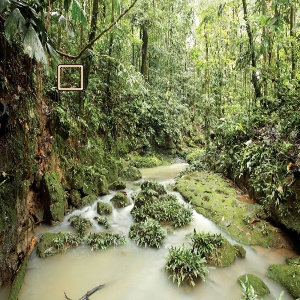square: (57, 64, 84, 91)
